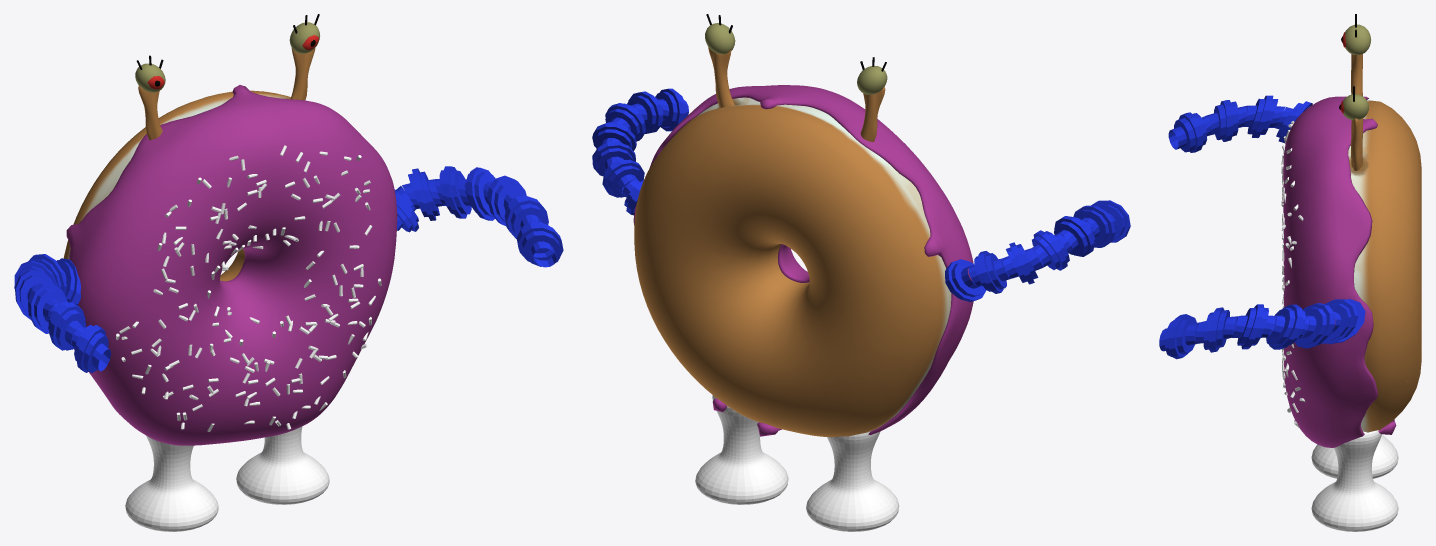
File: donutcmp.glb
3 views of the same model, side by side, from view 1: azimuth 30°, elevation 25°; view 2: azimuth 150°, elevation 25°; view 3: azimuth 270°, elevation 25° (orthographic). The views are drawn at different scales.
Visible parts, largest first — view 1: Icing, LegShape.001, LegShape, Donut, Cylinder.001, Cylinder.013, Cylinder.012, Cylinder.003, Cylinder.002, Cylinder.011, Cylinder.006, Cylinder.004 (+6 smaller); view 2: Donut, Icing, LegShape.001, LegShape, Cylinder.008, Cylinder.010, Cylinder.011, Cylinder.009, Cylinder.007, Cylinder.002, Cylinder.012, Cylinder.001 (+9 smaller); view 3: Icing, Donut, LegShape, LegShape.001, Cylinder.013, Cylinder.004, Cylinder.001, Cylinder.005, Cylinder.006, Cylinder.003, Cylinder.012, Cylinder.011 (+7 smaller).
Boxes of the visible parts, x1=… form: Icing: x1=66, y1=85, x2=397, y2=445; LegShape.001: x1=125, y1=435, x2=218, y2=531; LegShape: x1=236, y1=426, x2=329, y2=504; Donut: x1=63, y1=90, x2=290, y2=281; Cylinder.001: x1=516, y1=221, x2=563, y2=267; Cylinder.013: x1=71, y1=324, x2=110, y2=372; Cylinder.012: x1=48, y1=302, x2=86, y2=350; Cylinder.003: x1=435, y1=166, x2=471, y2=218; Cylinder.002: x1=402, y1=168, x2=443, y2=220; Cylinder.011: x1=28, y1=282, x2=67, y2=333; Cylinder.006: x1=504, y1=195, x2=548, y2=239; Cylinder.004: x1=464, y1=167, x2=495, y2=220; Donut: x1=634, y1=97, x2=951, y2=437; Icing: x1=633, y1=85, x2=973, y2=436; LegShape.001: x1=806, y1=431, x2=899, y2=531; LegShape: x1=695, y1=395, x2=788, y2=504; Cylinder.008: x1=968, y1=251, x2=1010, y2=293; Cylinder.010: x1=1031, y1=230, x2=1071, y2=270; Cylinder.011: x1=1054, y1=216, x2=1095, y2=256; Cylinder.009: x1=1001, y1=242, x2=1043, y2=284; Cylinder.007: x1=945, y1=259, x2=986, y2=302; Cylinder.002: x1=602, y1=159, x2=644, y2=197; Cylinder.012: x1=1073, y1=205, x2=1115, y2=247; Cylinder.001: x1=655, y1=88, x2=688, y2=131; Icing: x1=1281, y1=96, x2=1396, y2=447; Donut: x1=1348, y1=100, x2=1421, y2=432; LegShape: x1=1311, y1=430, x2=1398, y2=531; LegShape.001: x1=1311, y1=435, x2=1398, y2=478; Cylinder.013: x1=1168, y1=112, x2=1211, y2=152; Cylinder.004: x1=1266, y1=304, x2=1308, y2=349; Cylinder.001: x1=1159, y1=314, x2=1199, y2=359; Cylinder.005: x1=1232, y1=304, x2=1275, y2=349; Cylinder.006: x1=1195, y1=307, x2=1237, y2=352; Cylinder.003: x1=1295, y1=303, x2=1335, y2=348; Cylinder.012: x1=1207, y1=100, x2=1247, y2=141; Cylinder.011: x1=1243, y1=95, x2=1285, y2=138.
Bounding box in the file's own units: 2.66 × 2.44 × 1.31.
10 materials, 4 textured.
